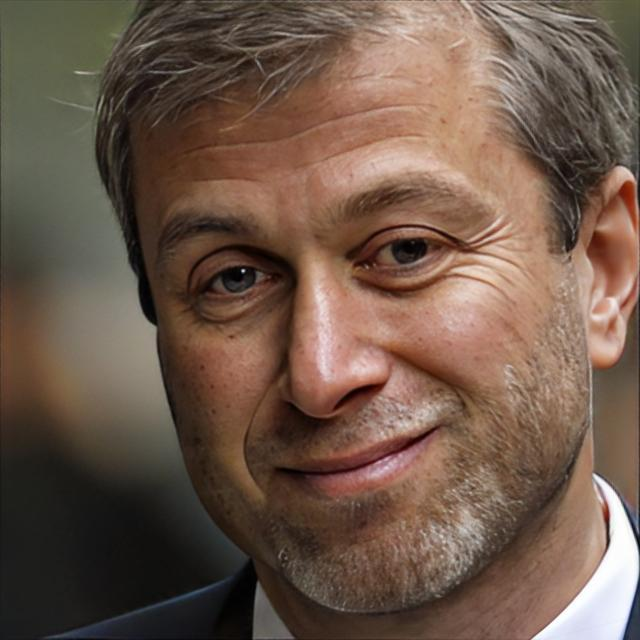content: (129, 35, 589, 618)
